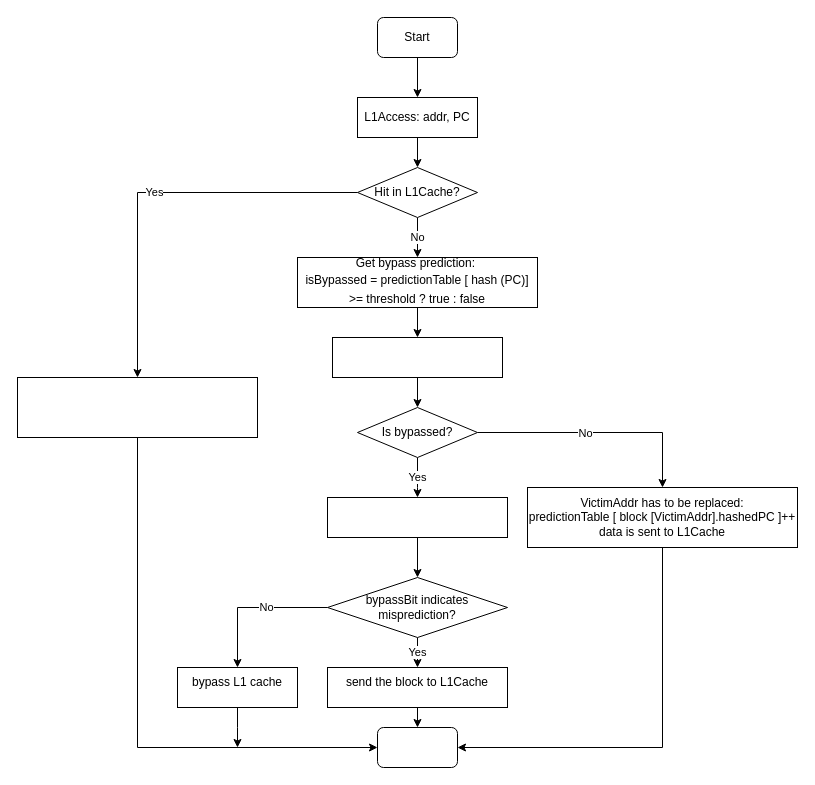
Image size: 815x785. Some labels were removed from this diagram. Here are the shapes that lost their labels. From the top down, the centre of each, then its label:
At point (417, 357): "Send memory request to L2, along with the prediction".
At point (137, 407): "predictionTable [ block[addr].hashedPC ]--; block [addr].hashedPC = hash (PC);".
At point (417, 517): "get L2Block [address].bypassBit".
At point (417, 747): "End".
